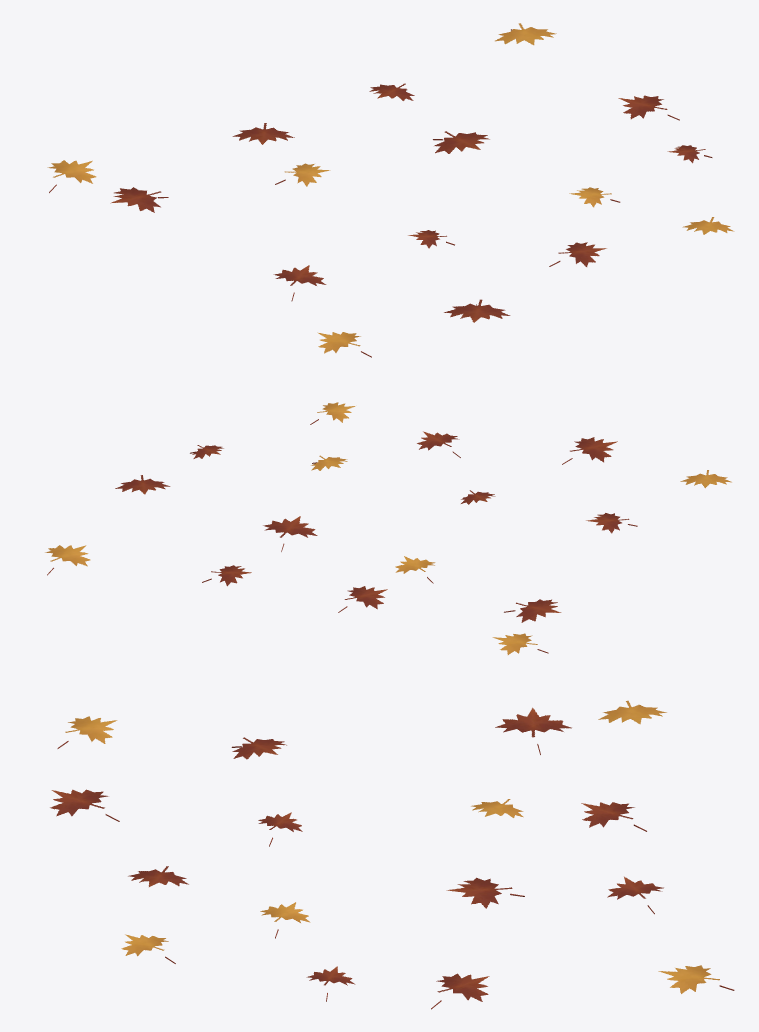
Rendered from autumn_floating_leaves.glb.
The picture shows the model from 3 angles, top to bottom: view 1: azimuth 30°, elevation 25°; view 2: azimuth 150°, elevation 25°; view 3: azimuth 270°, elevation 25°; orthographic projection. The views are drawn at different scales.
Visible parts, largest first — view 1: autumn_floating_leaves; view 2: autumn_floating_leaves; view 3: autumn_floating_leaves.
Part boxes in pixels (x1,y1,x2,y2): autumn_floating_leaves: (47,23,734,357); autumn_floating_leaves: (45,402,731,654); autumn_floating_leaves: (50,700,734,1009).
Bounding box in the file's own units: 1.9 × 0.04 × 1.8.
2 materials, 2 textured.
